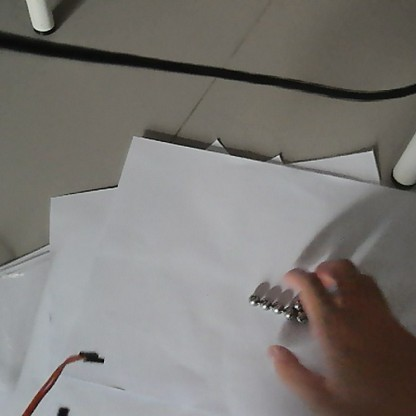ironball: (267, 298, 283, 316), (289, 296, 303, 312), (245, 292, 260, 306), (292, 311, 305, 324), (258, 297, 270, 310), (280, 307, 294, 318)
